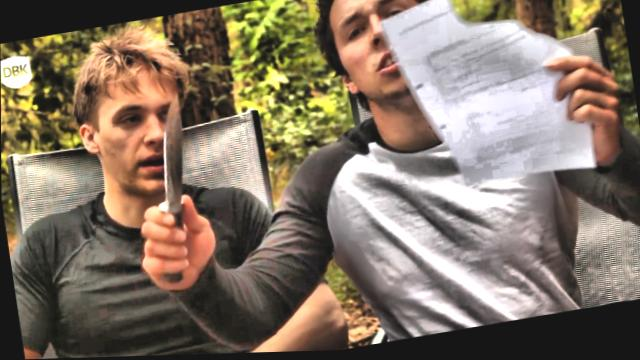knife: (115, 87, 216, 299)
